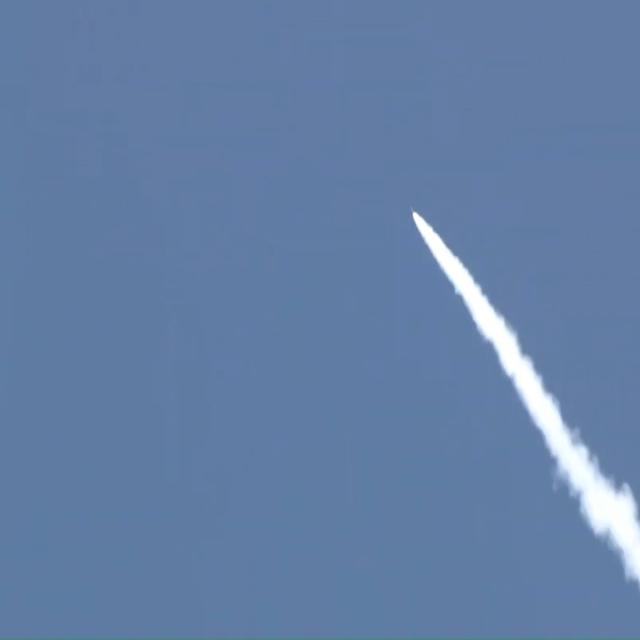Rocket: (410, 208, 414, 213)
